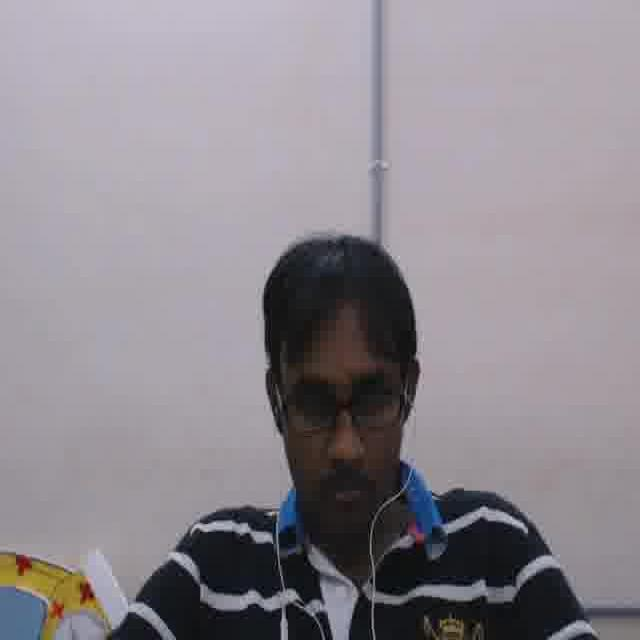Boredom: (280, 323, 403, 536)
